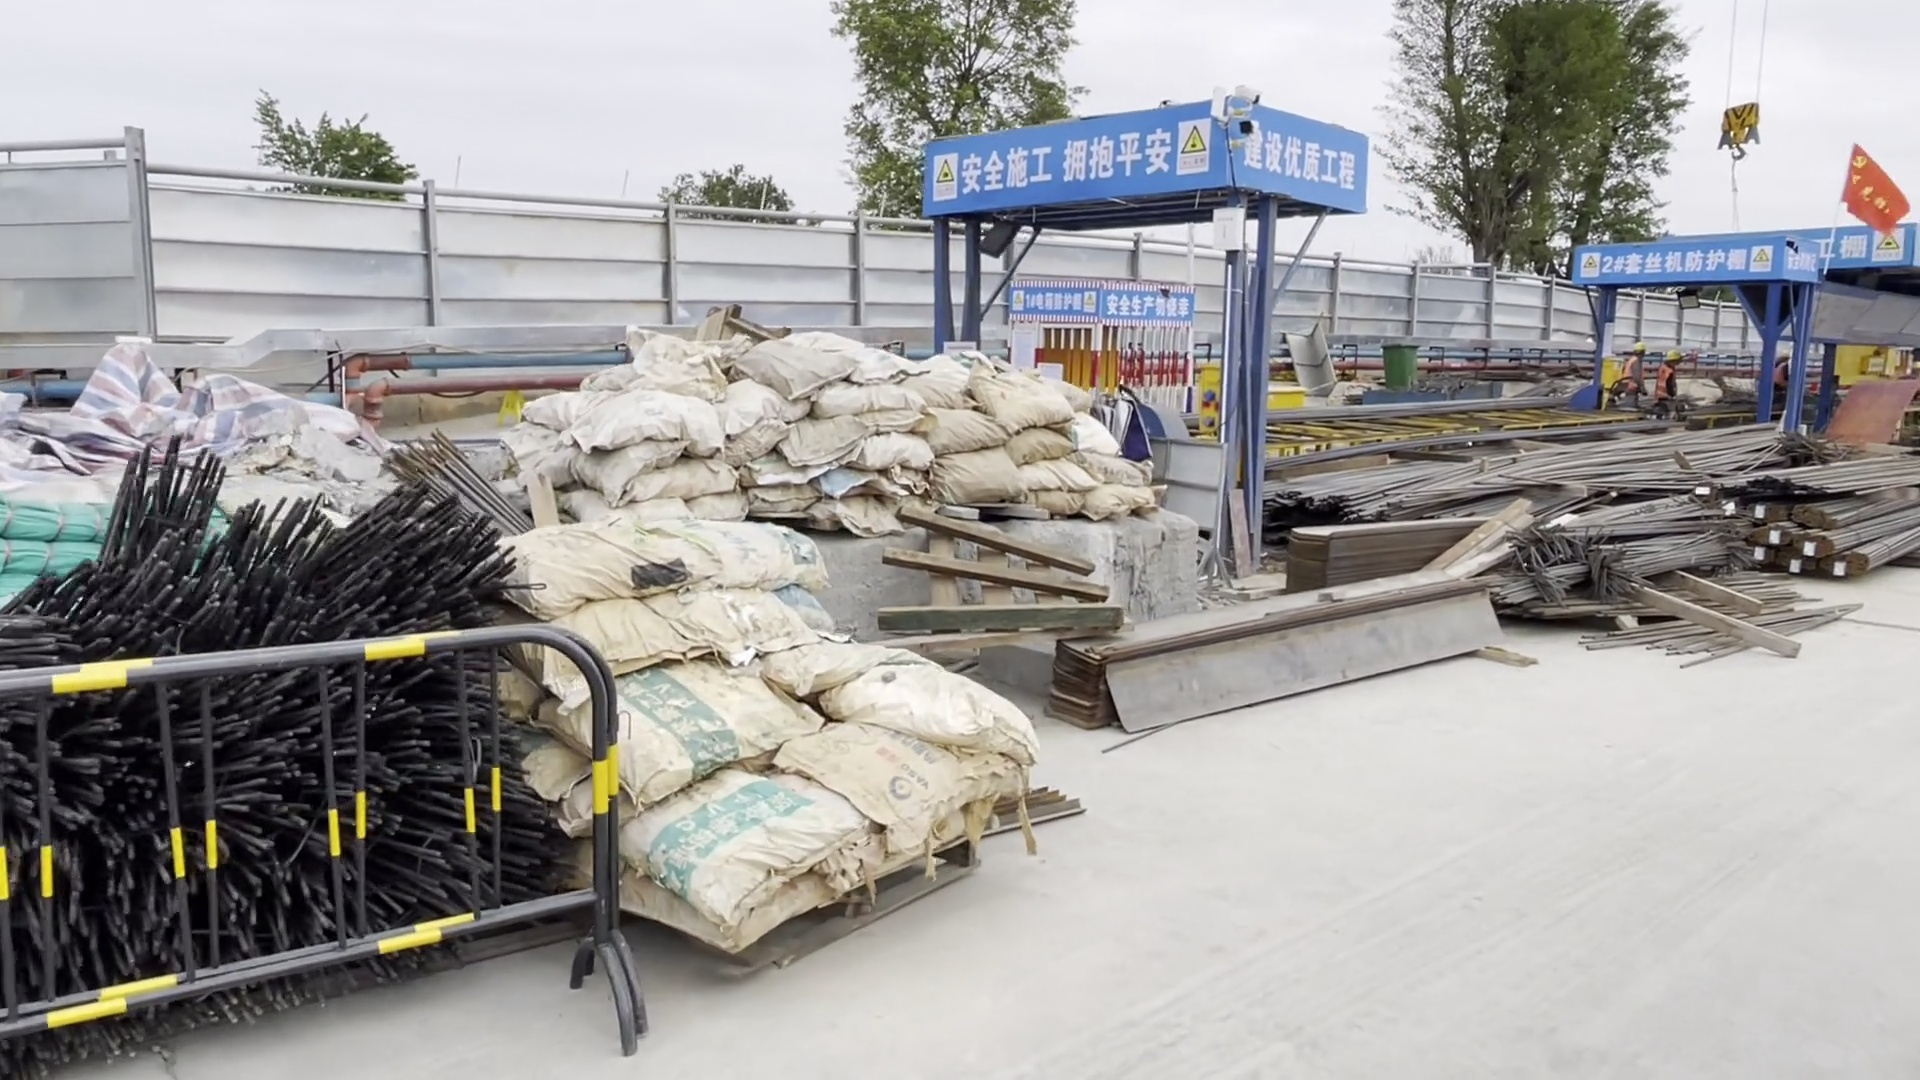fence: (26, 153, 926, 371), (1217, 240, 1609, 332)
helmet: (1632, 339, 1648, 352), (1664, 350, 1680, 361), (1780, 348, 1794, 360)
hook: (1714, 101, 1766, 159)
person: (1657, 336, 1690, 437), (1619, 335, 1649, 415), (1773, 346, 1792, 396)
rebar: (1342, 456, 1920, 586)
slogan: (945, 126, 1219, 196), (1245, 124, 1374, 191), (1591, 244, 1774, 279), (1017, 288, 1098, 323), (1113, 296, 1201, 324), (1781, 248, 1825, 277)
vest: (1657, 363, 1680, 400), (1622, 354, 1643, 390), (1776, 363, 1790, 384)
